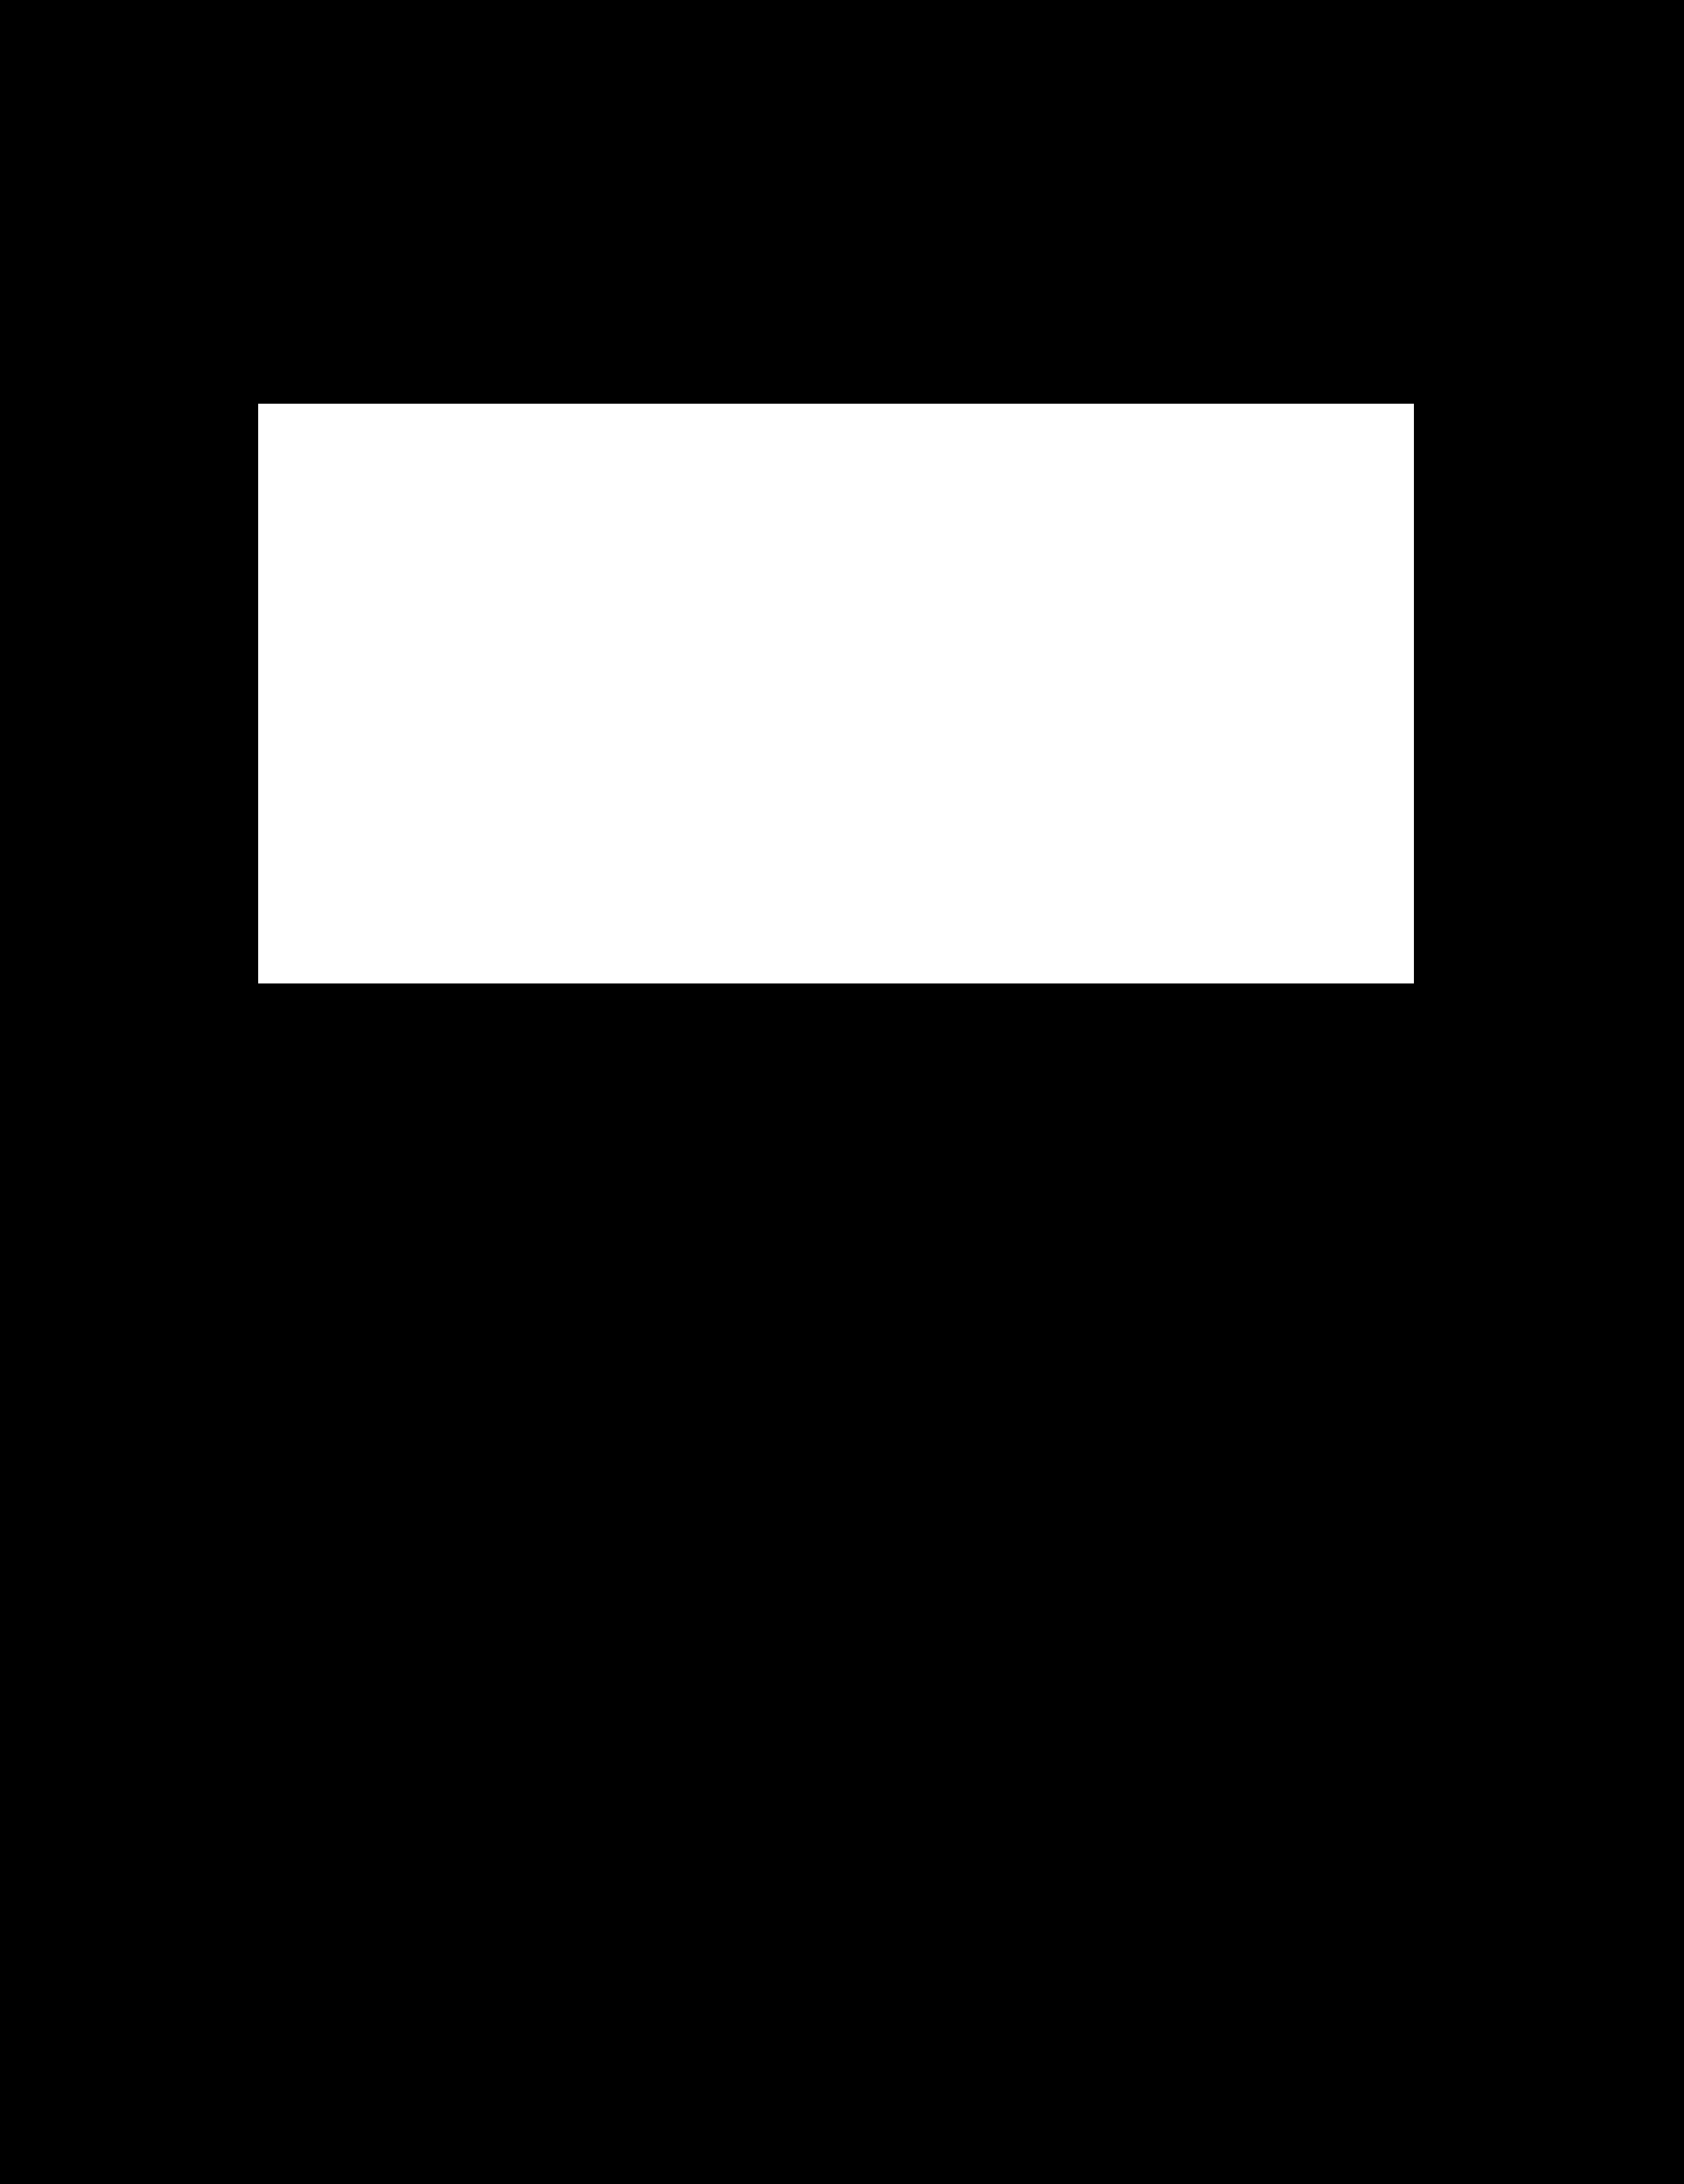table: (258, 403, 1413, 983)
